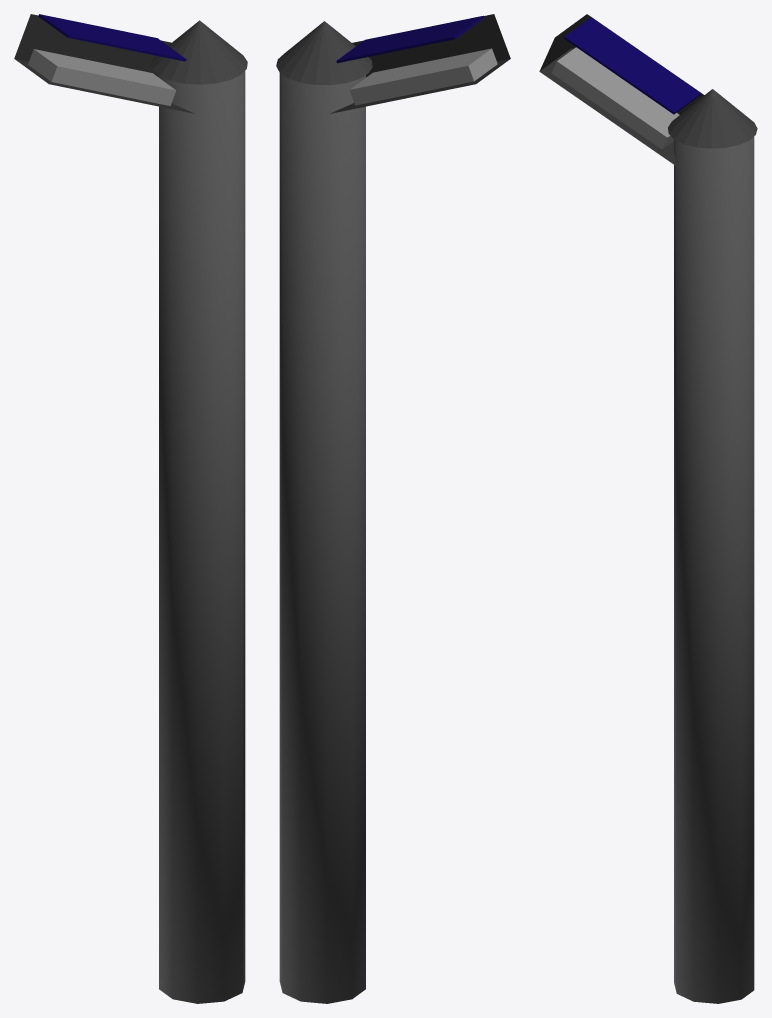
Rendered from LAMP-lights.glb.
The picture shows the model from 3 angles, left to right: view 1: azimuth 30°, elevation 25°; view 2: azimuth 150°, elevation 25°; view 3: azimuth 330°, elevation 25°; orthographic projection. The views are drawn at different scales.
Parts seen in each view (by area): view 1: Cylinder; view 2: Cylinder; view 3: Cylinder.
Part boxes in pixels (bbox=[...]): Cylinder: bbox=[14, 14, 247, 1003]; Cylinder: bbox=[276, 14, 510, 1003]; Cylinder: bbox=[539, 14, 757, 1003].
Bounding box in the file's own units: 1.1 × 4.99 × 0.437.
